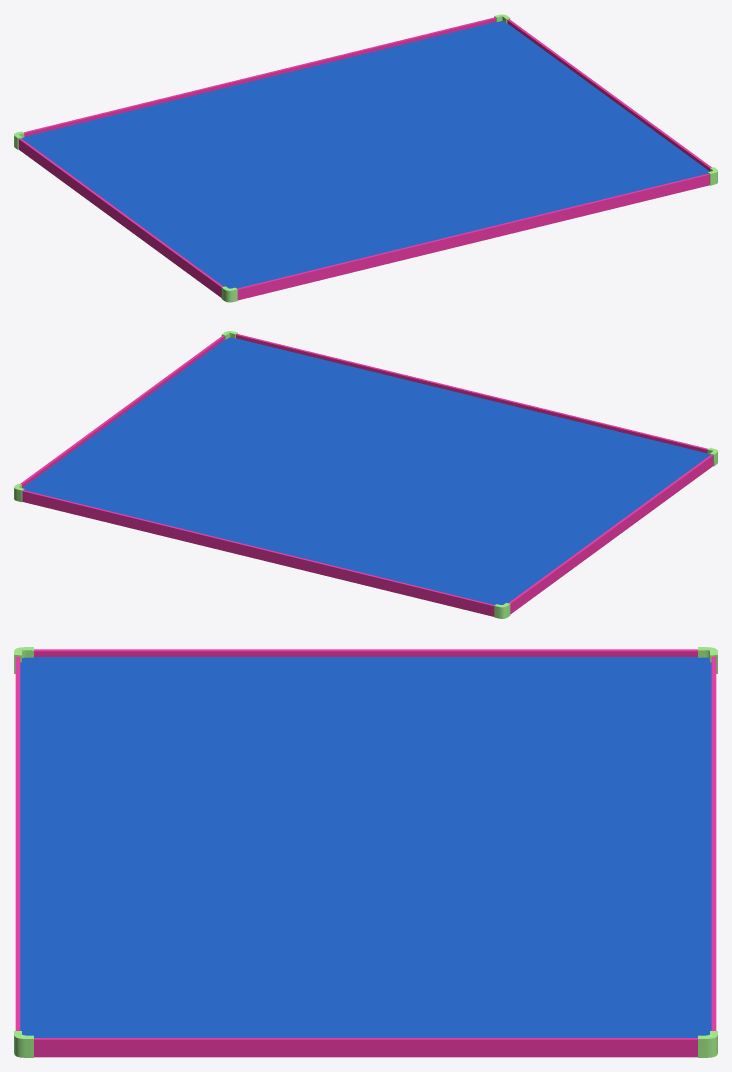
File: board.FBX
3 renders of one model, top to bottom at view 1: azimuth 30°, elevation 25°; view 2: azimuth 150°, elevation 25°; view 3: azimuth 270°, elevation 25°, orthographic. The views are drawn at different scales.
Parts seen in each view (by area): view 1: Box001; view 2: Box001; view 3: Box001.
Boxes of the visible parts, x1,y1,x2,y2 form: Box001: [14, 14, 717, 302]; Box001: [14, 331, 717, 618]; Box001: [14, 647, 717, 1057].
Size of the model in its own units: 31.05 by 0.7158 by 23.58.
